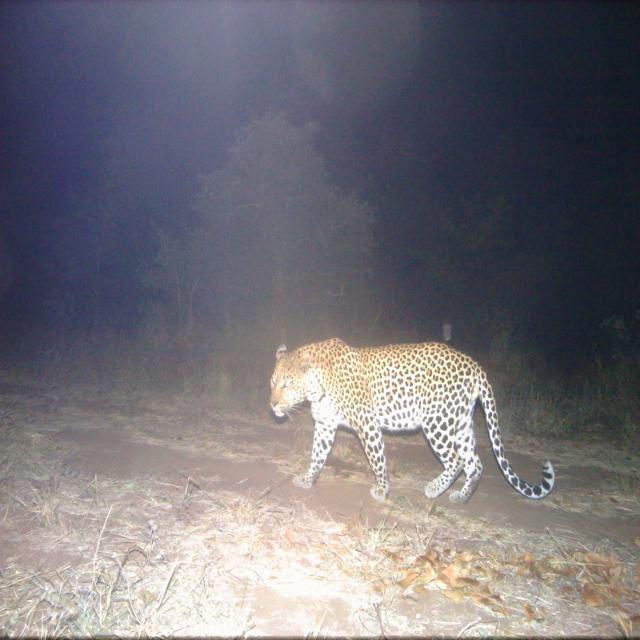Leopard: (267, 331, 553, 520)
